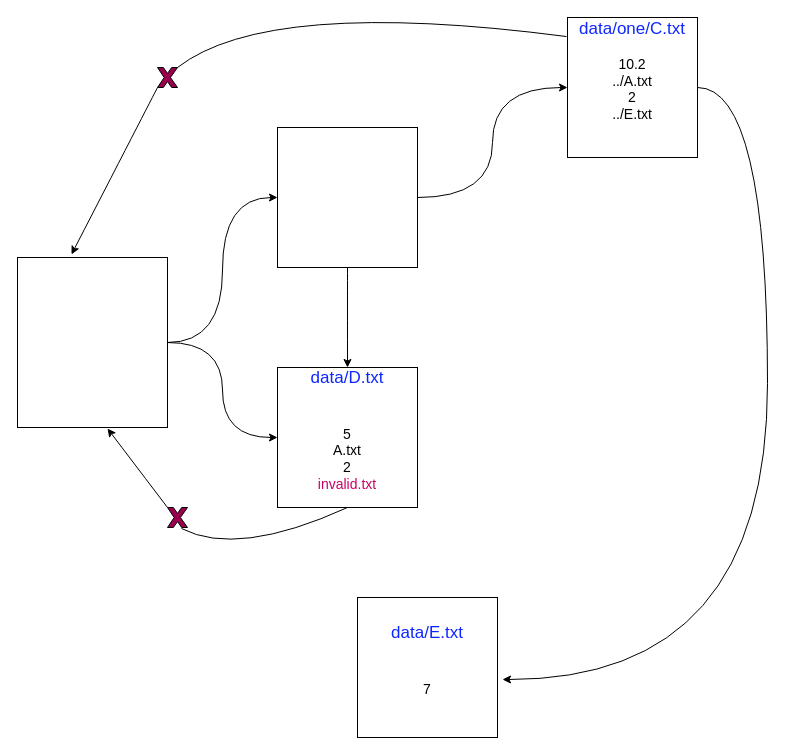
The diagram is 785 pixels wide and 755 high, and some of its shapes have lost their labels. The centre of each missing label's shape, as x and y in pixels:
"data/A.txt 3 19 random text B.txt 50 D.txt" belongs at point (92, 342).
"data/B.txt one/C.txt D.txt 27" belongs at point (347, 197).
